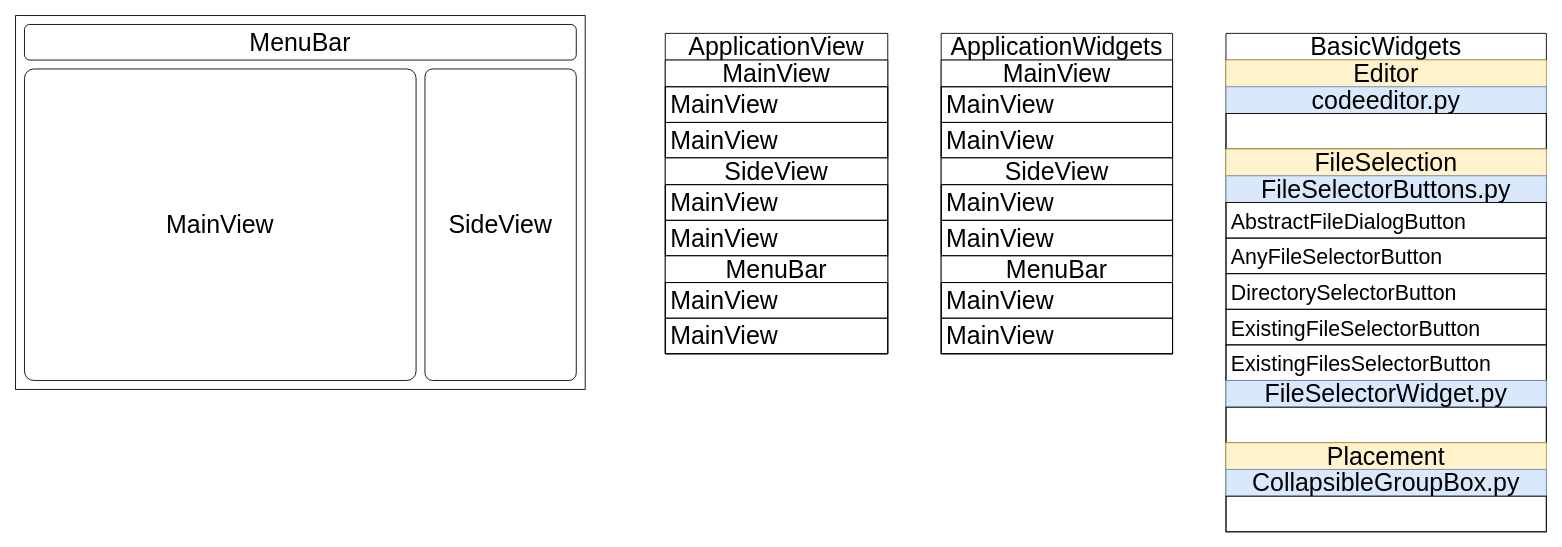
Some shapes in this 1562 by 547 pixel diagram are drawn without their labels. The centre of each missing label's shape, as x and y in pixels:
CodeEditor: point (1385, 131)
CollapsibleGroupBox: point (1385, 513)
FileSelector: point (1385, 424)
